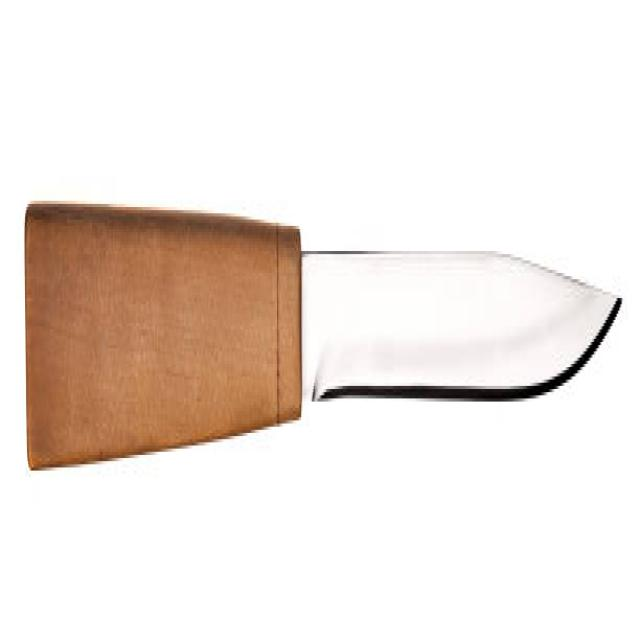knife: (21, 177, 627, 475)
